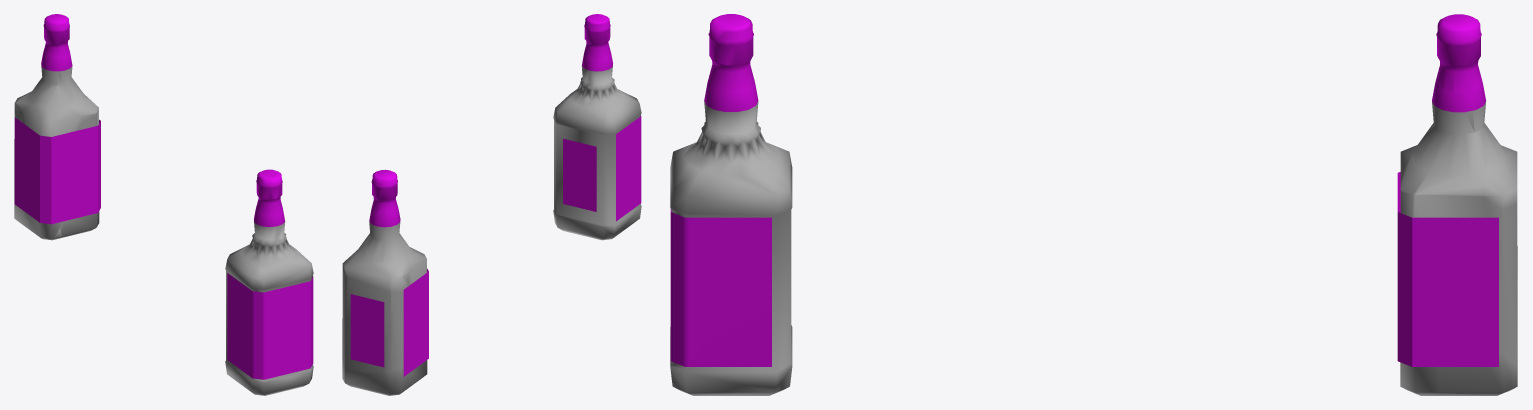
The model's file is Breakable Whiskey MDL.fbx.
The picture shows the model from 3 angles, left to right: view 1: azimuth 30°, elevation 25°; view 2: azimuth 150°, elevation 25°; view 3: azimuth 270°, elevation 25°; orthographic projection. The views are drawn at different scales.
Visible parts, largest first — view 1: WhiskeyBottle, WhiskeyFragment12, WhiskeyFragment5, WhiskeyFragment11, WhiskeyFragment7, WhiskeyFragment9, WhiskeyFragment, WhiskeyFragment1, WhiskeyFragment2, WhiskeyFragment6, WhiskeyFragment10, WhiskeyFragment4; view 2: WhiskeyBottle, WhiskeyFragment6, WhiskeyFragment4, WhiskeyFragment2, WhiskeyFragment3, WhiskeyFragment10, WhiskeyFragment11, WhiskeyFragment1, WhiskeyFragment5; view 3: WhiskeyBottle, WhiskeyFragment7, WhiskeyFragment, WhiskeyFragment8, WhiskeyFragment9, WhiskeyFragment6, WhiskeyFragment1, WhiskeyFragment3, WhiskeyFragment4, WhiskeyFragment2.
Boxes of the visible parts, bbox=[...] form: WhiskeyBottle: bbox=[225, 169, 313, 395]; WhiskeyFragment12: bbox=[28, 150, 100, 220]; WhiskeyFragment5: bbox=[20, 86, 82, 155]; WhiskeyFragment11: bbox=[17, 152, 64, 239]; WhiskeyFragment7: bbox=[68, 107, 100, 172]; WhiskeyFragment9: bbox=[60, 178, 100, 236]; WhiskeyFragment: bbox=[58, 54, 98, 122]; WhiskeyFragment1: bbox=[43, 14, 70, 58]; WhiskeyFragment2: bbox=[16, 49, 62, 114]; WhiskeyFragment6: bbox=[14, 145, 27, 202]; WhiskeyFragment10: bbox=[14, 193, 32, 231]; WhiskeyFragment4: bbox=[14, 117, 27, 150]; WhiskeyBottle: bbox=[553, 14, 641, 240]; WhiskeyFragment6: bbox=[342, 304, 416, 373]; WhiskeyFragment4: bbox=[342, 272, 416, 321]; WhiskeyFragment2: bbox=[364, 206, 410, 279]; WhiskeyFragment3: bbox=[342, 247, 408, 292]; WhiskeyFragment10: bbox=[344, 363, 419, 395]; WhiskeyFragment11: bbox=[406, 306, 428, 379]; WhiskeyFragment1: bbox=[371, 169, 397, 211]; WhiskeyFragment5: bbox=[402, 237, 428, 303]; WhiskeyBottle: bbox=[670, 14, 792, 395]; WhiskeyFragment7: bbox=[1397, 192, 1498, 319]; WhiskeyFragment: bbox=[1400, 82, 1485, 196]; WhiskeyFragment8: bbox=[1436, 320, 1515, 395]; WhiskeyFragment9: bbox=[1397, 315, 1452, 395]; WhiskeyFragment6: bbox=[1452, 246, 1517, 363]; WhiskeyFragment1: bbox=[1435, 14, 1481, 93]; WhiskeyFragment3: bbox=[1483, 143, 1517, 210]; WhiskeyFragment4: bbox=[1492, 204, 1517, 281]; WhiskeyFragment2: bbox=[1468, 78, 1498, 152].
Bounding box in the file's own units: 1.28 × 4.12 × 8.95.
